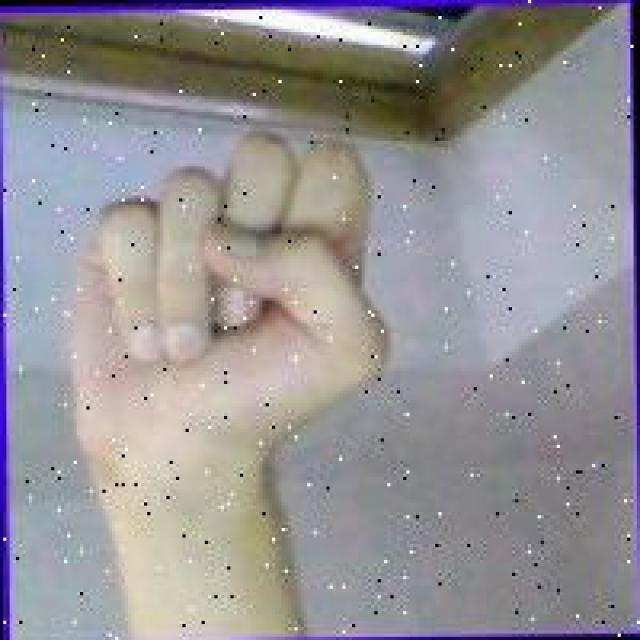S: (64, 125, 397, 467)
